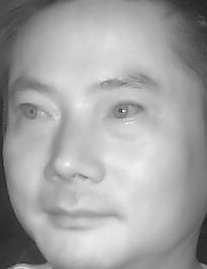eye: (103, 98, 148, 125), (14, 100, 56, 127)
mouth: (42, 191, 123, 235)
